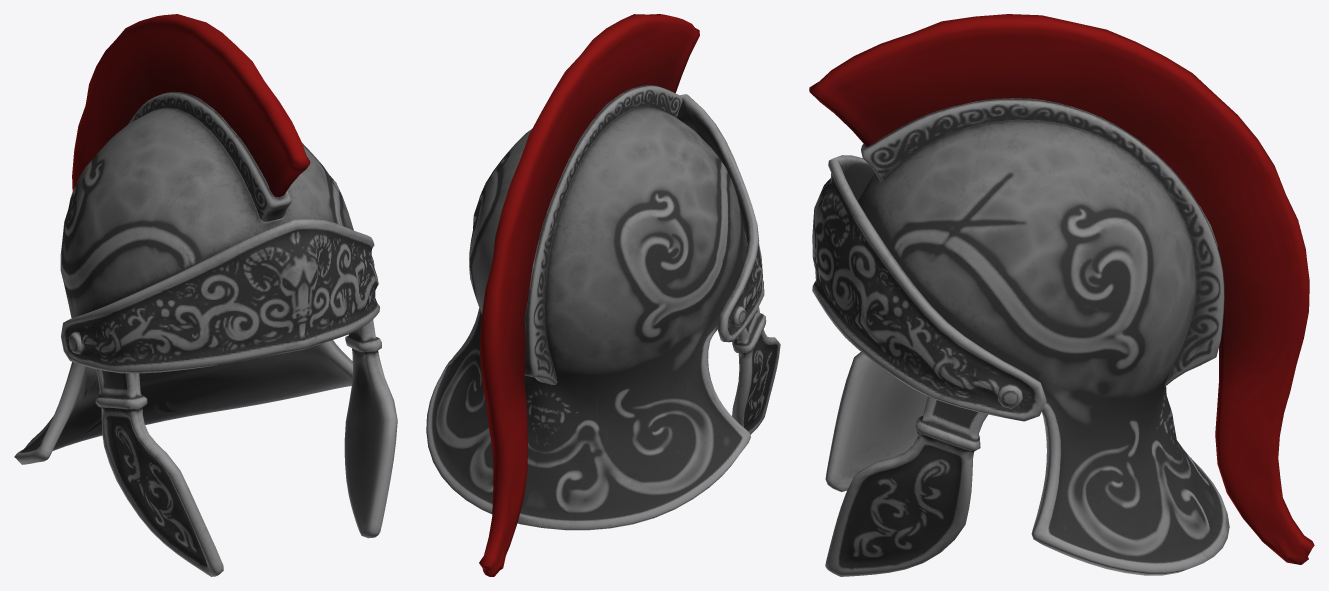
3 renders of one model, left to right at view 1: azimuth 30°, elevation 25°; view 2: azimuth 150°, elevation 25°; view 3: azimuth 270°, elevation 25°, orthographic. The views are drawn at different scales.
Parts seen in each view (by area): view 1: Casque_low, Visiere_low, Crin_low, Barre_low; view 2: Casque_low, Crin_low, Barre_low, Visiere_low; view 3: Casque_low, Crin_low, Visiere_low, Barre_low.
Boxes of the visible parts, x1=… form: Casque_low: x1=14, y1=107, x2=397, y2=576; Visiere_low: x1=61, y1=219, x2=379, y2=373; Crin_low: x1=72, y1=14, x2=310, y2=197; Barre_low: x1=128, y1=91, x2=291, y2=221; Casque_low: x1=426, y1=106, x2=780, y2=530; Crin_low: x1=479, y1=14, x2=699, y2=576; Barre_low: x1=524, y1=85, x2=682, y2=384; Visiere_low: x1=469, y1=94, x2=764, y2=342; Casque_low: x1=825, y1=119, x2=1229, y2=576; Crin_low: x1=809, y1=14, x2=1314, y2=564; Visiere_low: x1=812, y1=155, x2=1046, y2=421; Barre_low: x1=861, y1=98, x2=1224, y2=386.
Bounding box in the file's own units: 1.39 × 2 × 1.68.
1 material, 1 textured.
